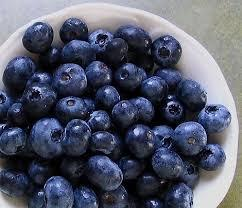bluebarry: (0, 16, 231, 207)
